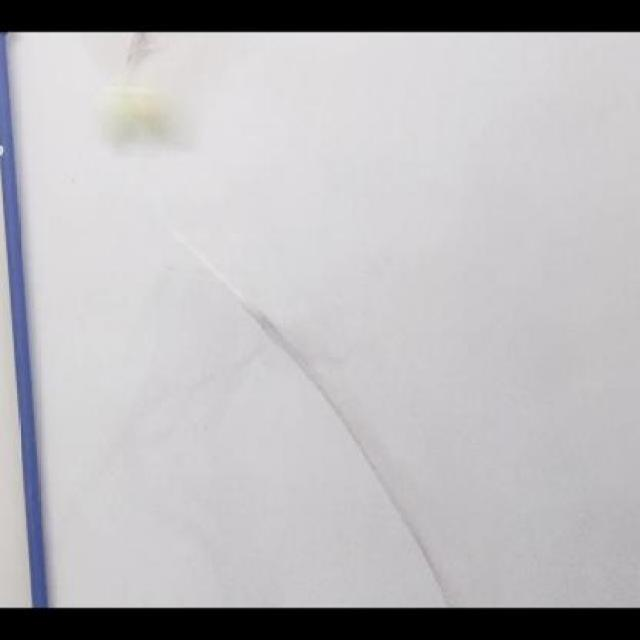baseball: (105, 82, 180, 153)
